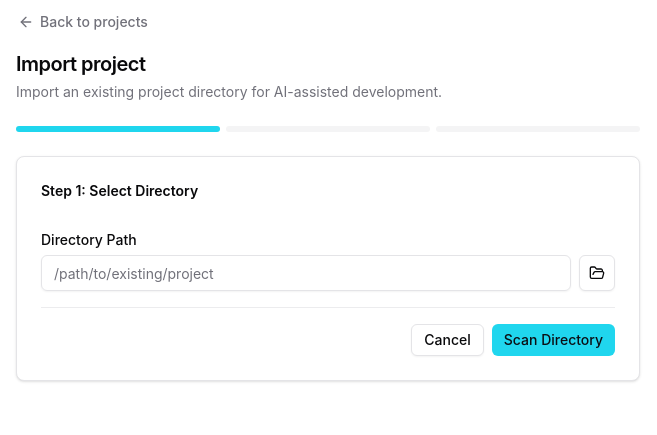
ImportProjectPage native directory picker › shows a picker failure, preserves the manual path and enables retry
Type "D:\\manual\\project" into the field labelled "Directory Path" at (306, 273), box [41,255,571,291]
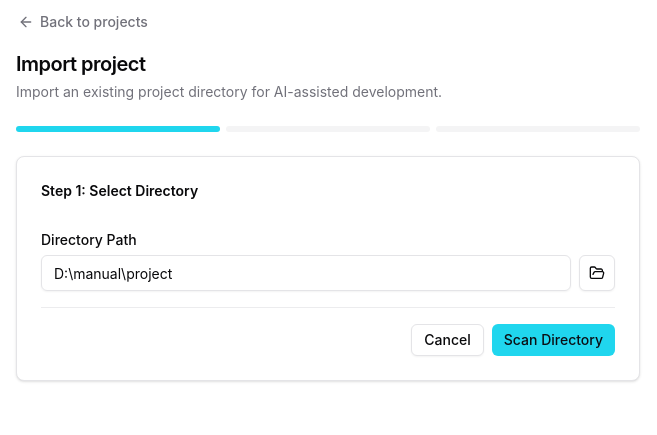
Click the button named "Browse" at (597, 273), box [579,255,615,291]
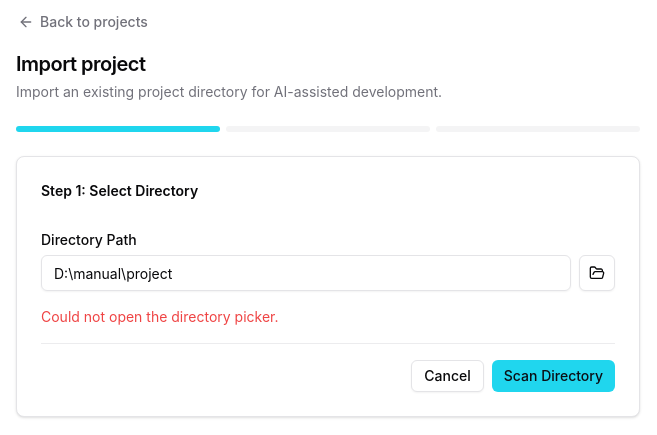
Now the message reads "Could not open the directory picker.", box [41,308,278,325]
Click the button named "Browse" at (597, 273), box [579,255,615,291]
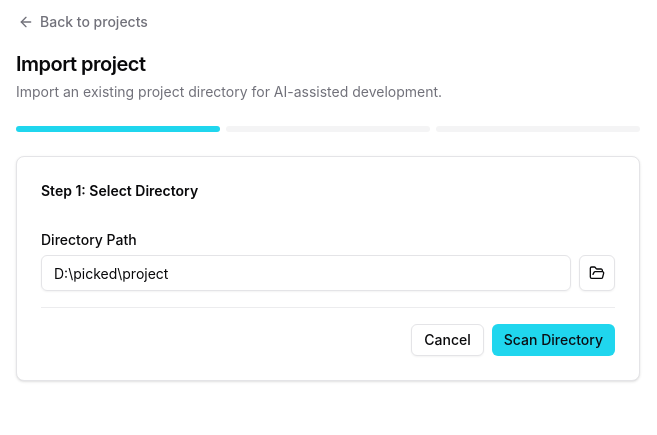
Now the field labelled "Directory Path" holds "D:\\picked\\project", box [41,255,571,291]
Now the message "Could not open the directory picker." is gone
